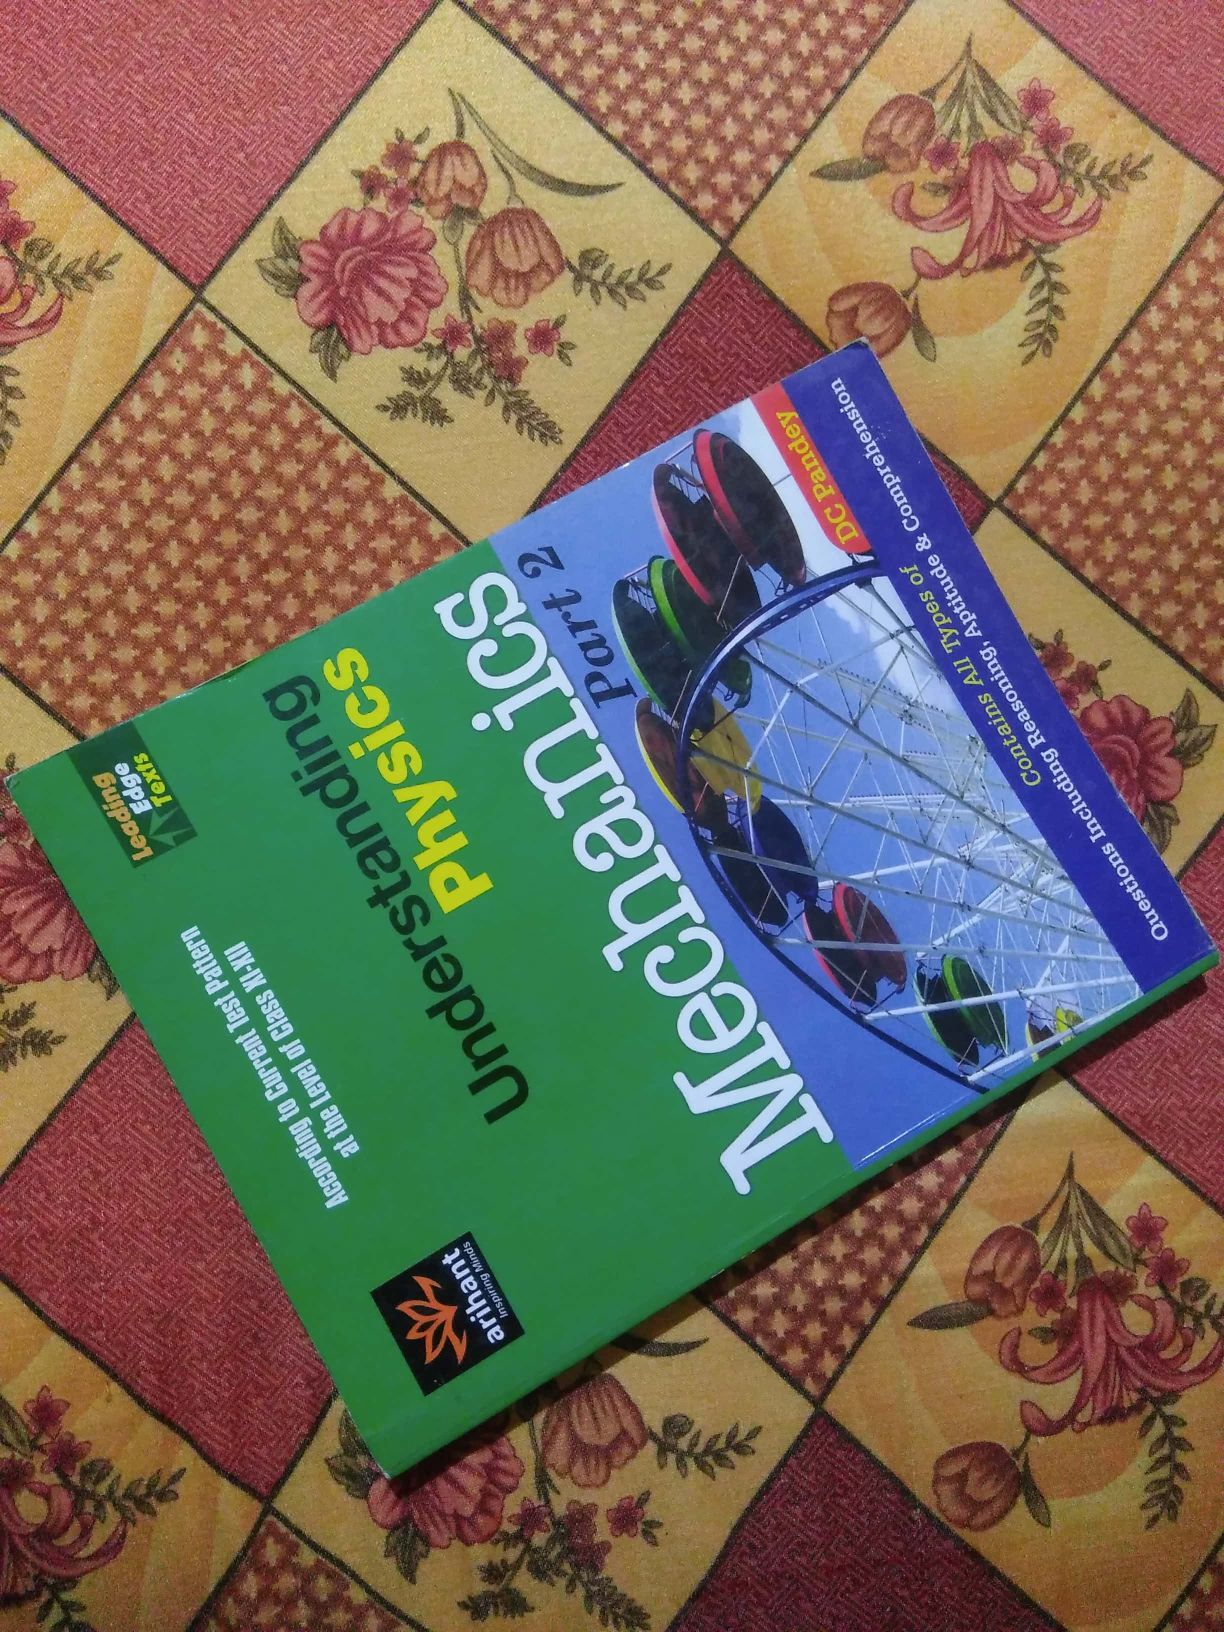mechanics: (42, 456, 1192, 1414)
